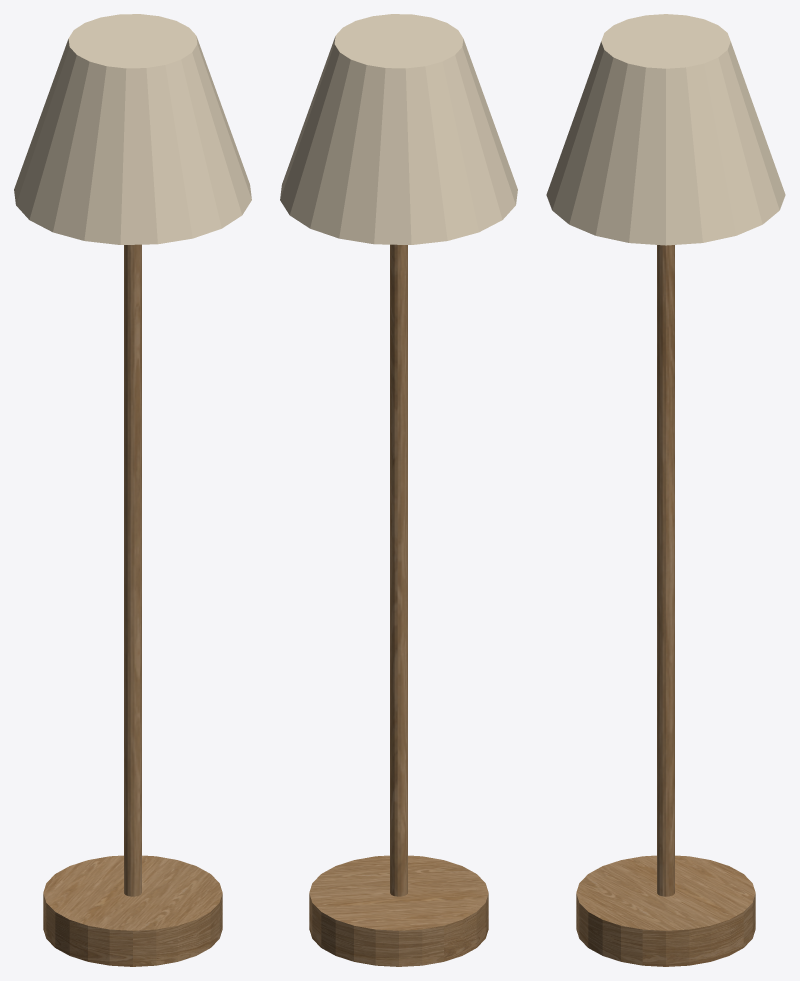
The model's file is floor_lamp_cream.glb.
The picture shows the model from 3 angles, left to right: view 1: azimuth 30°, elevation 25°; view 2: azimuth 150°, elevation 25°; view 3: azimuth 270°, elevation 25°; orthographic projection.
Visible parts, largest first — view 1: fabric shade, weighted base, lamp pole; view 2: fabric shade, weighted base, lamp pole; view 3: fabric shade, weighted base, lamp pole.
Boxes of the visible parts, x1,y1,x2,y2 form: fabric shade: (14, 14, 251, 244); weighted base: (43, 855, 222, 966); lamp pole: (124, 244, 141, 896); fabric shade: (280, 14, 517, 244); weighted base: (309, 855, 488, 966); lamp pole: (390, 244, 407, 896); fabric shade: (546, 14, 785, 245); weighted base: (576, 855, 755, 966); lamp pole: (657, 245, 674, 896).
Bounding box in the file's own units: 0.48 × 1.96 × 0.48.
2 materials, 1 textured.
